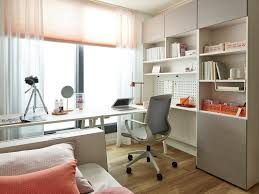Chair: (121, 93, 180, 180)
curtain: (1, 0, 46, 109), (110, 4, 147, 96)
